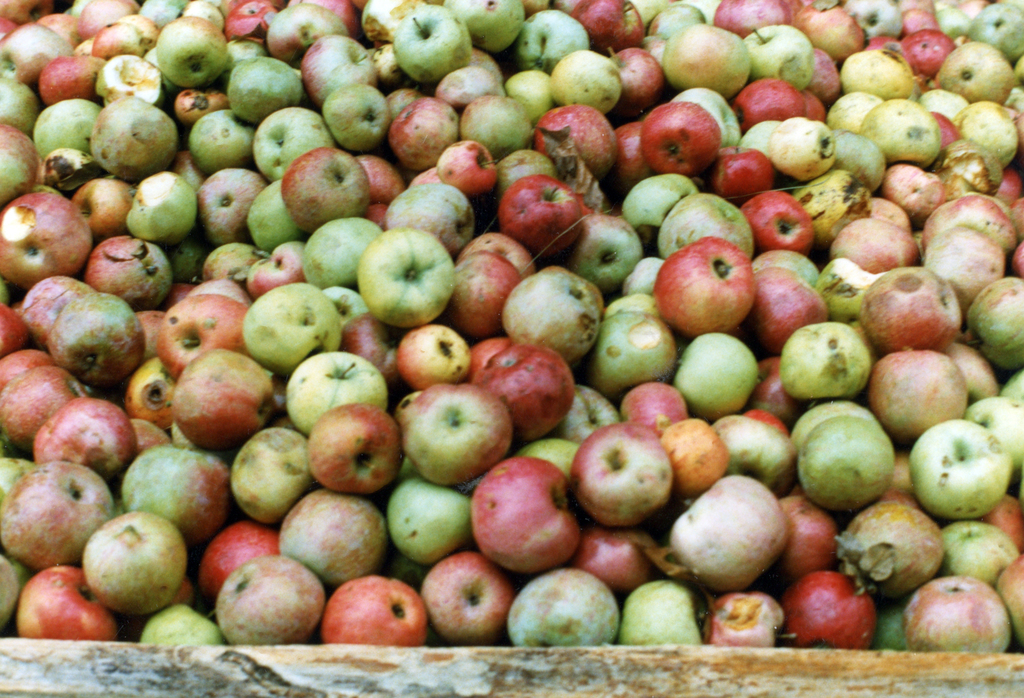Apple: (0, 0, 1023, 653), (650, 227, 766, 335)
